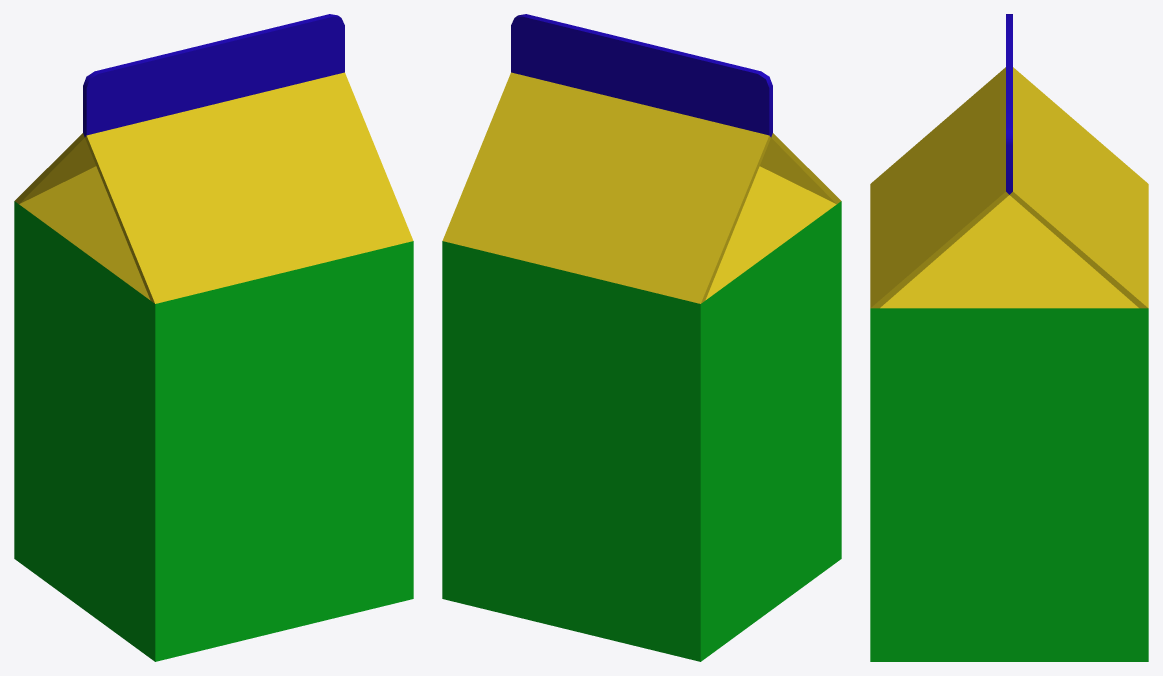
The model's file is Milk.fbx.
3 views of the same model, side by side, from view 1: azimuth 30°, elevation 25°; view 2: azimuth 150°, elevation 25°; view 3: azimuth 270°, elevation 25° (orthographic).
Parts seen in each view (by area): view 1: Milk pack; view 2: Milk pack; view 3: Milk pack.
Boxes of the visible parts, x1,y1,x2,y2 form: Milk pack: (14, 14, 413, 661); Milk pack: (442, 14, 841, 661); Milk pack: (870, 14, 1148, 661).
Bounding box in the file's own units: 22.62 × 44.76 × 21.35.
